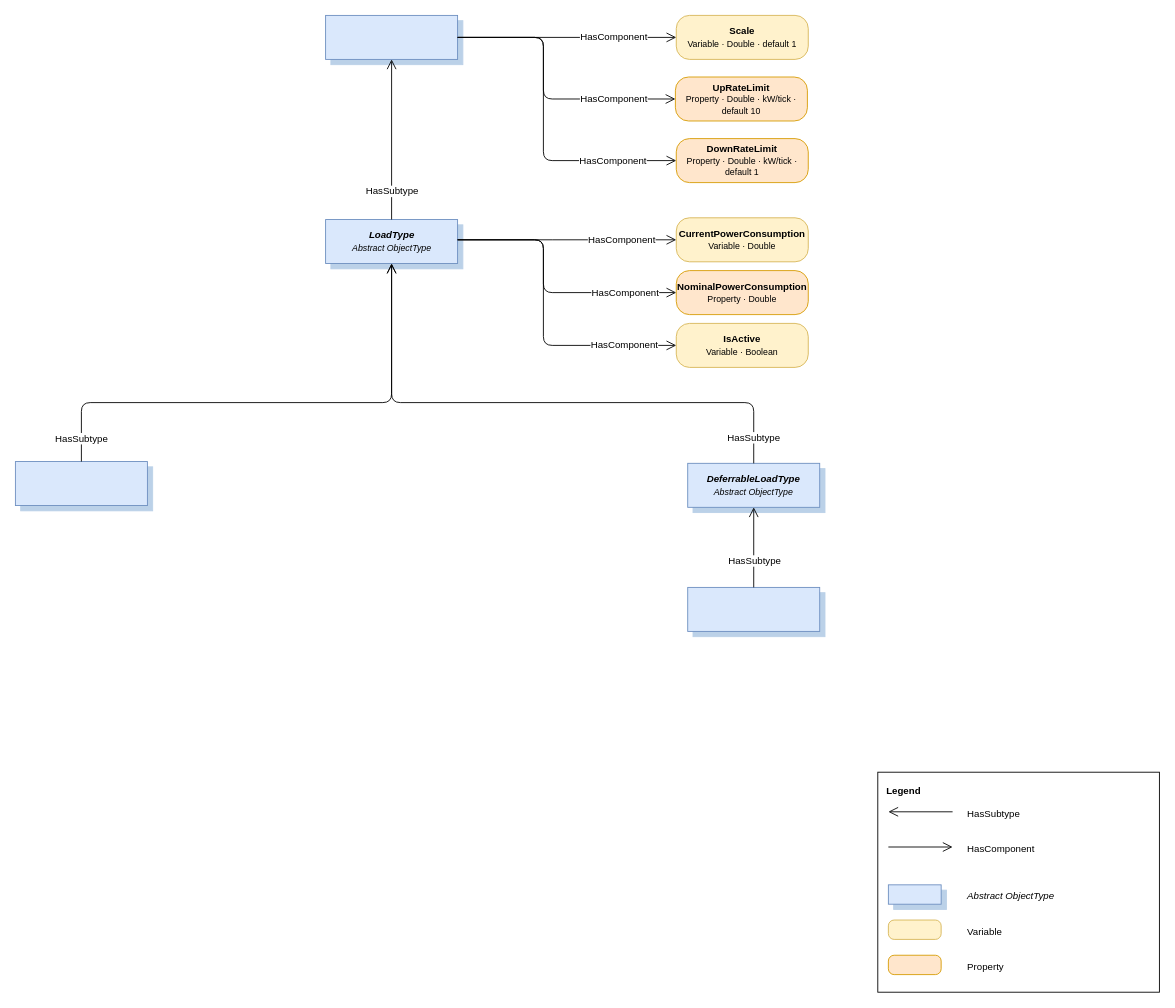
Some shapes in this 1175 by 1008 pixel diagram are drawn without their labels. Here are the shapes that lost their labels. From the top down, the centre of each, then its label:
At point (391, 37): "PlantType Abstract ObjectType".
At point (81, 483): "NonDeferrableLoadType Abstract ObjectType".
At point (753, 609): "ThermosticallyControlledLoadType Abstract ObjectType".
